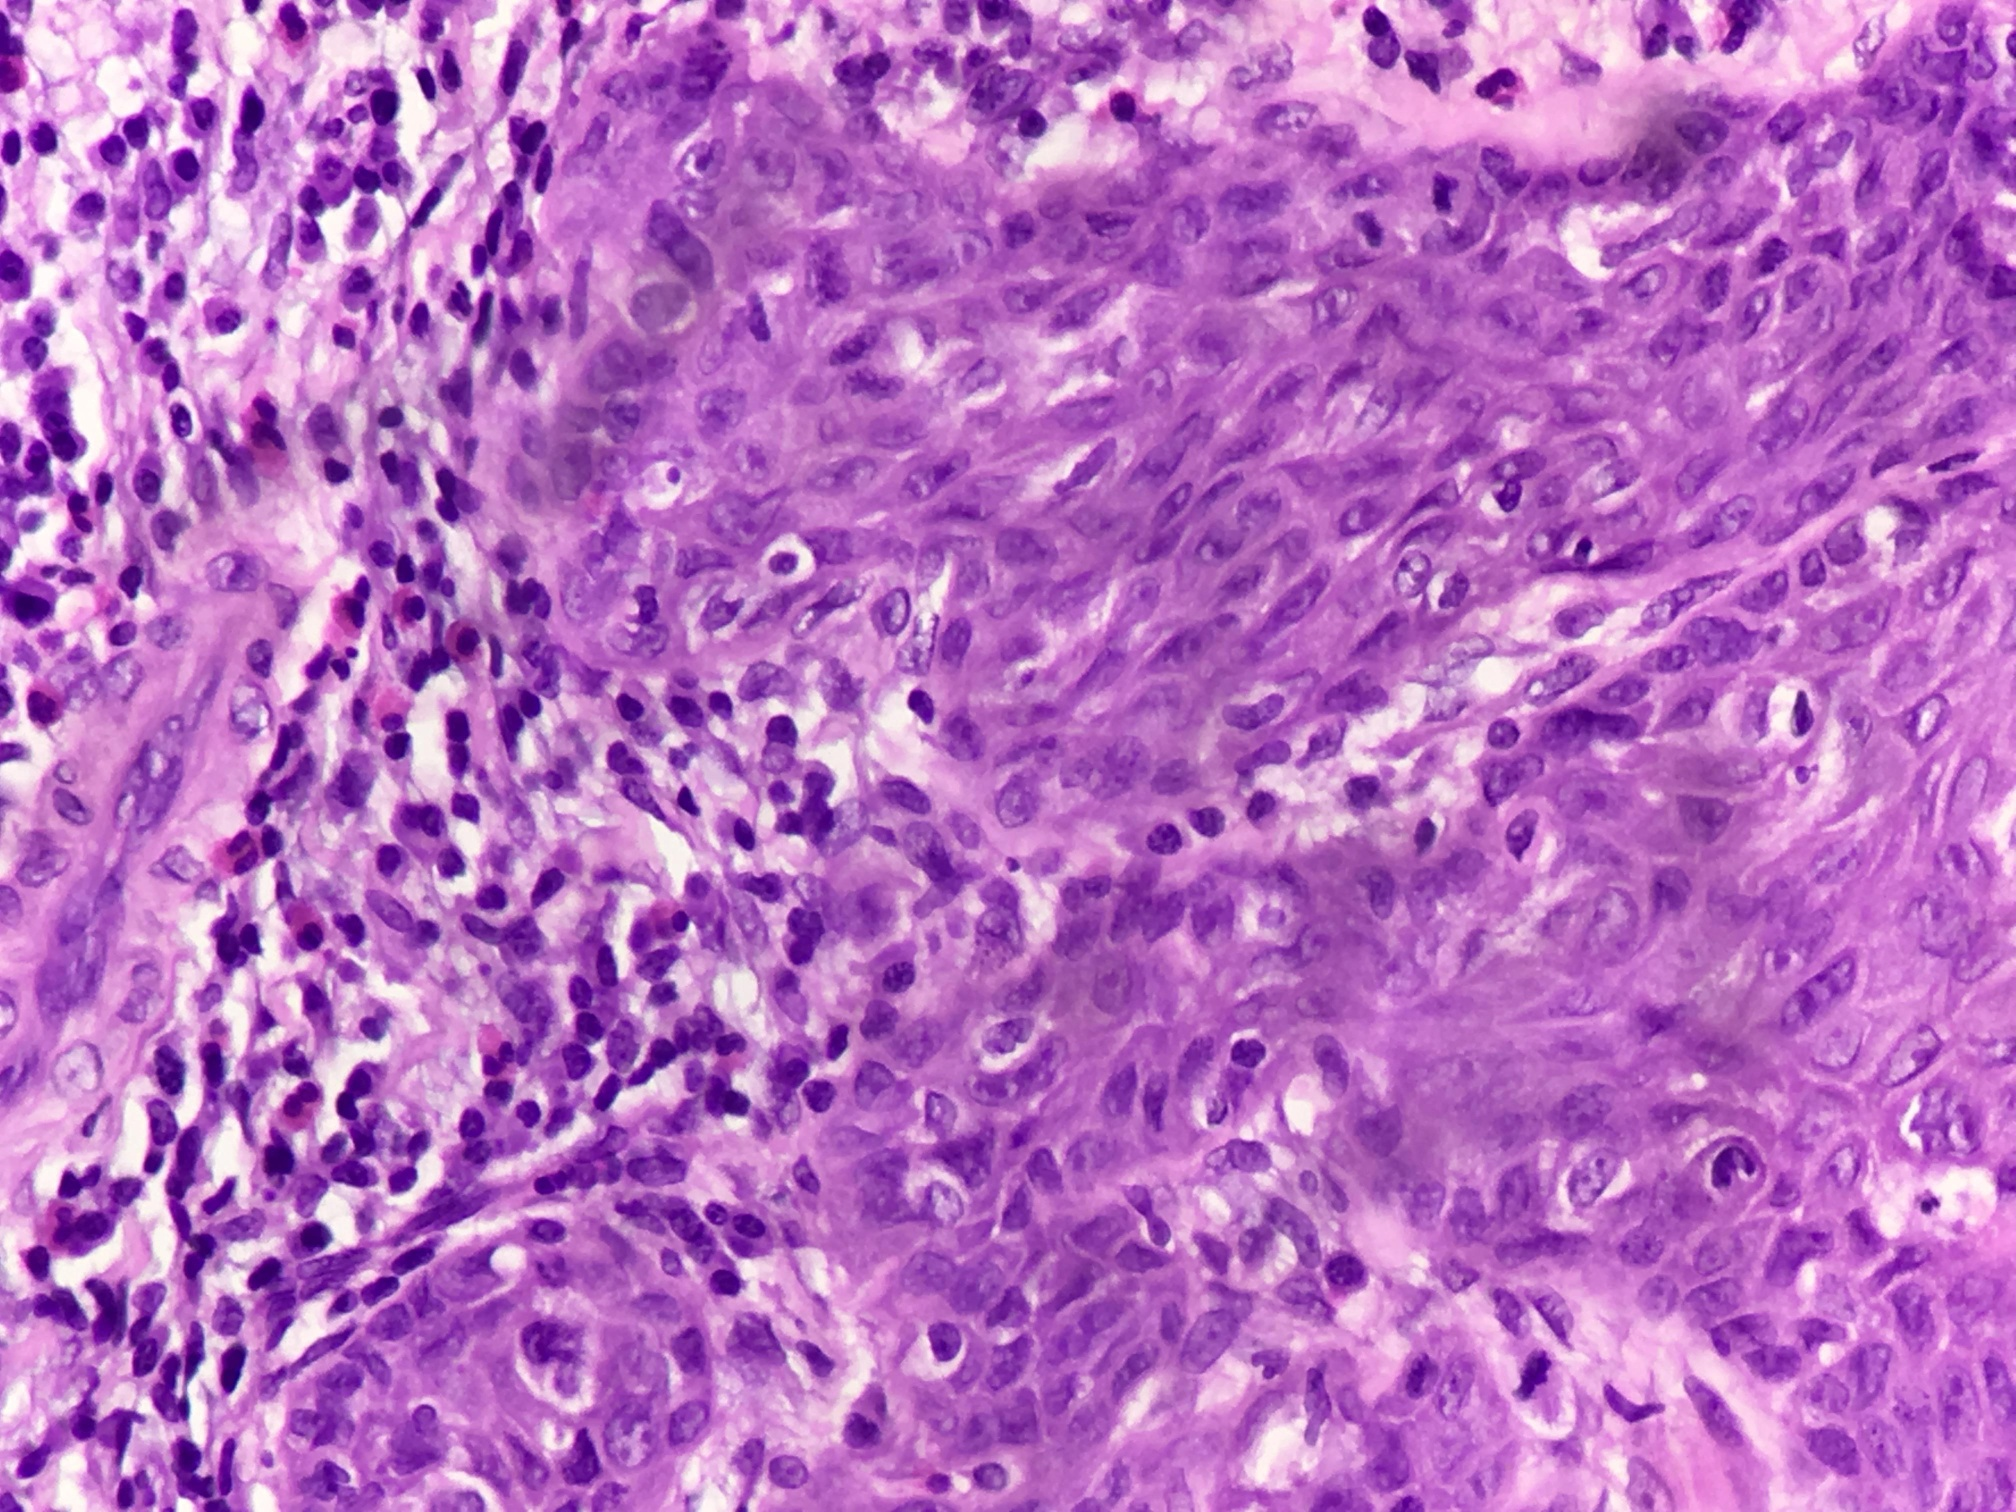mitotic: (1329, 152, 1502, 305), (1452, 1301, 1599, 1436)
